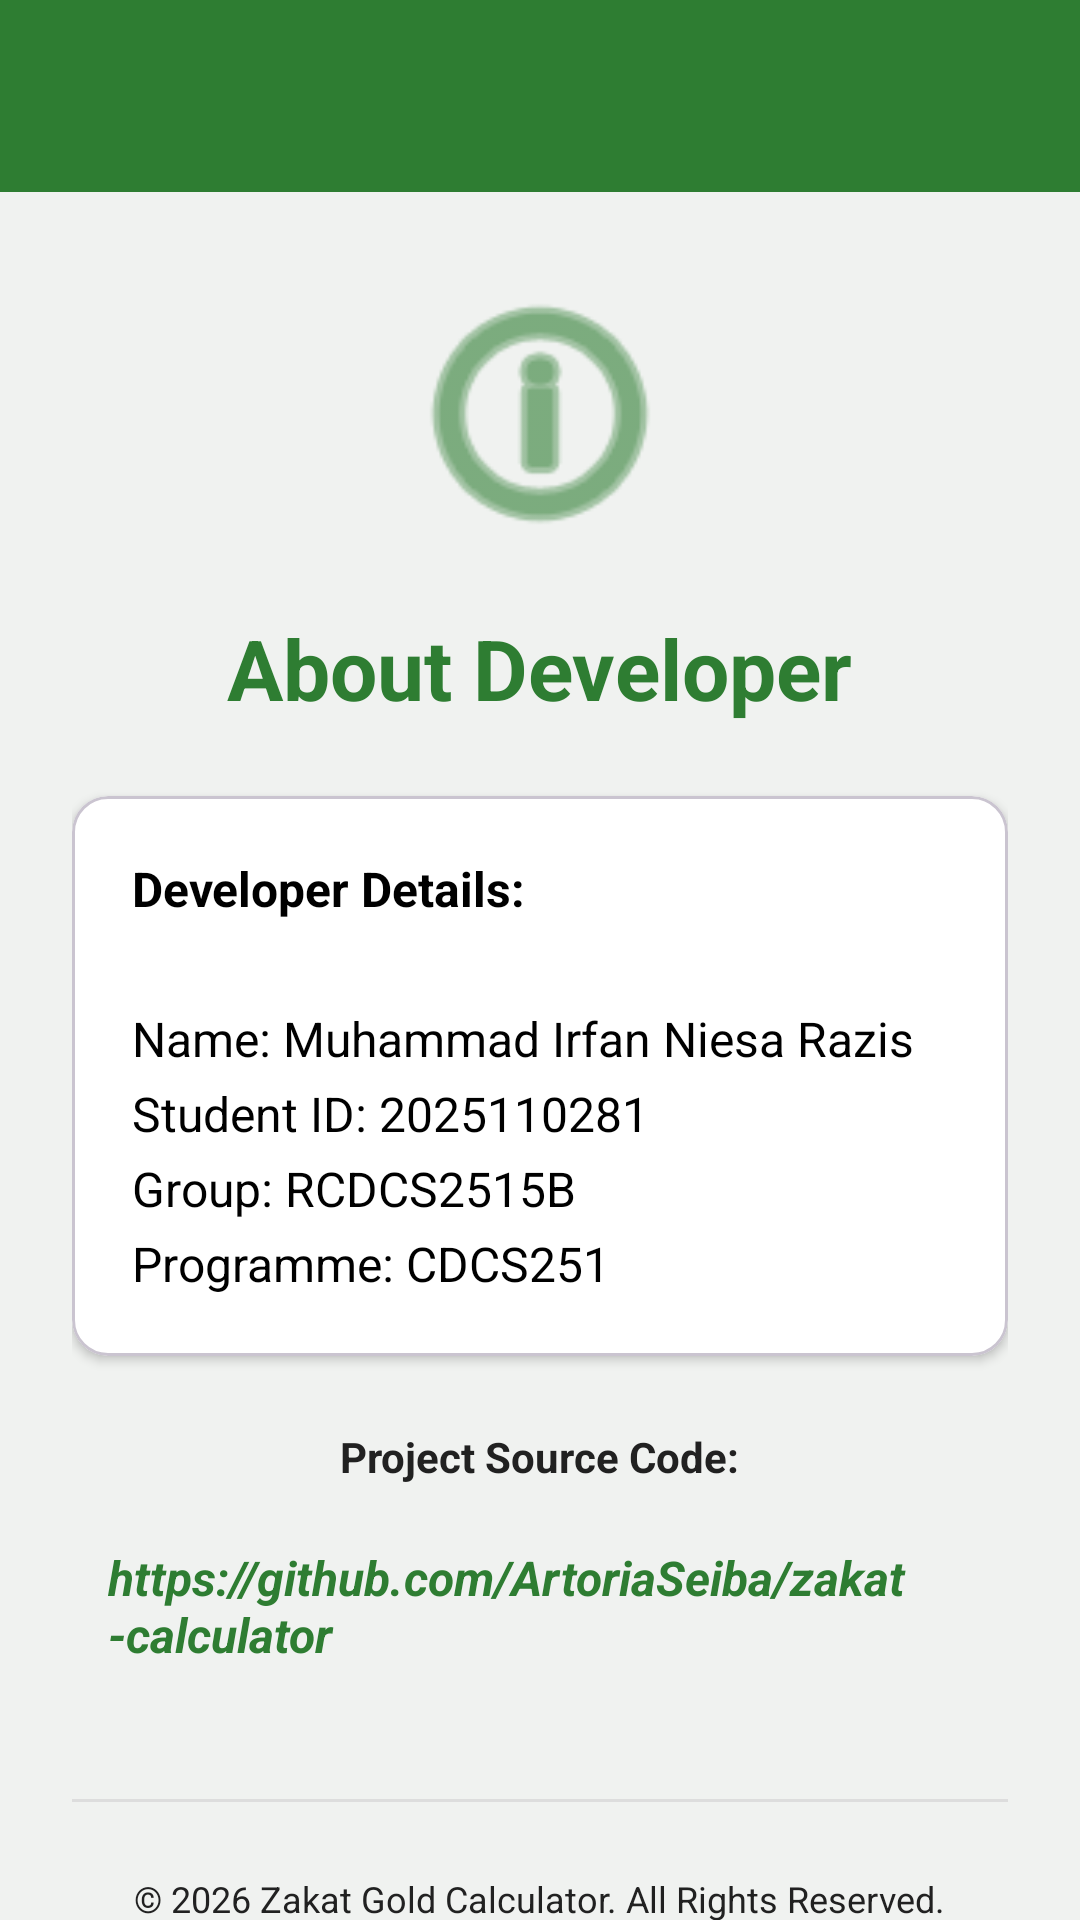

Icon bounding boxes for this 1080 x 1920 phone screenshot, format {"x1": x1, "y1": y1, "x2": x2, "y2": y2}:
Info Icon: {"x1": 432, "y1": 306, "x2": 648, "y2": 522}
